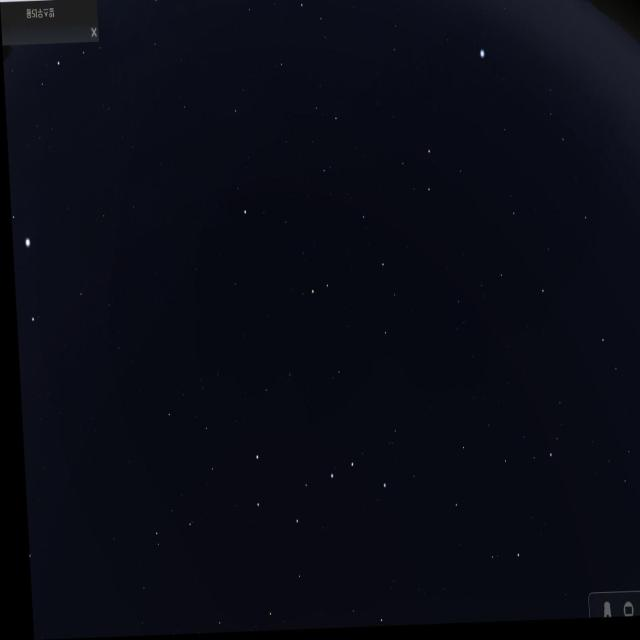ursa_major: (248, 432, 392, 532)
